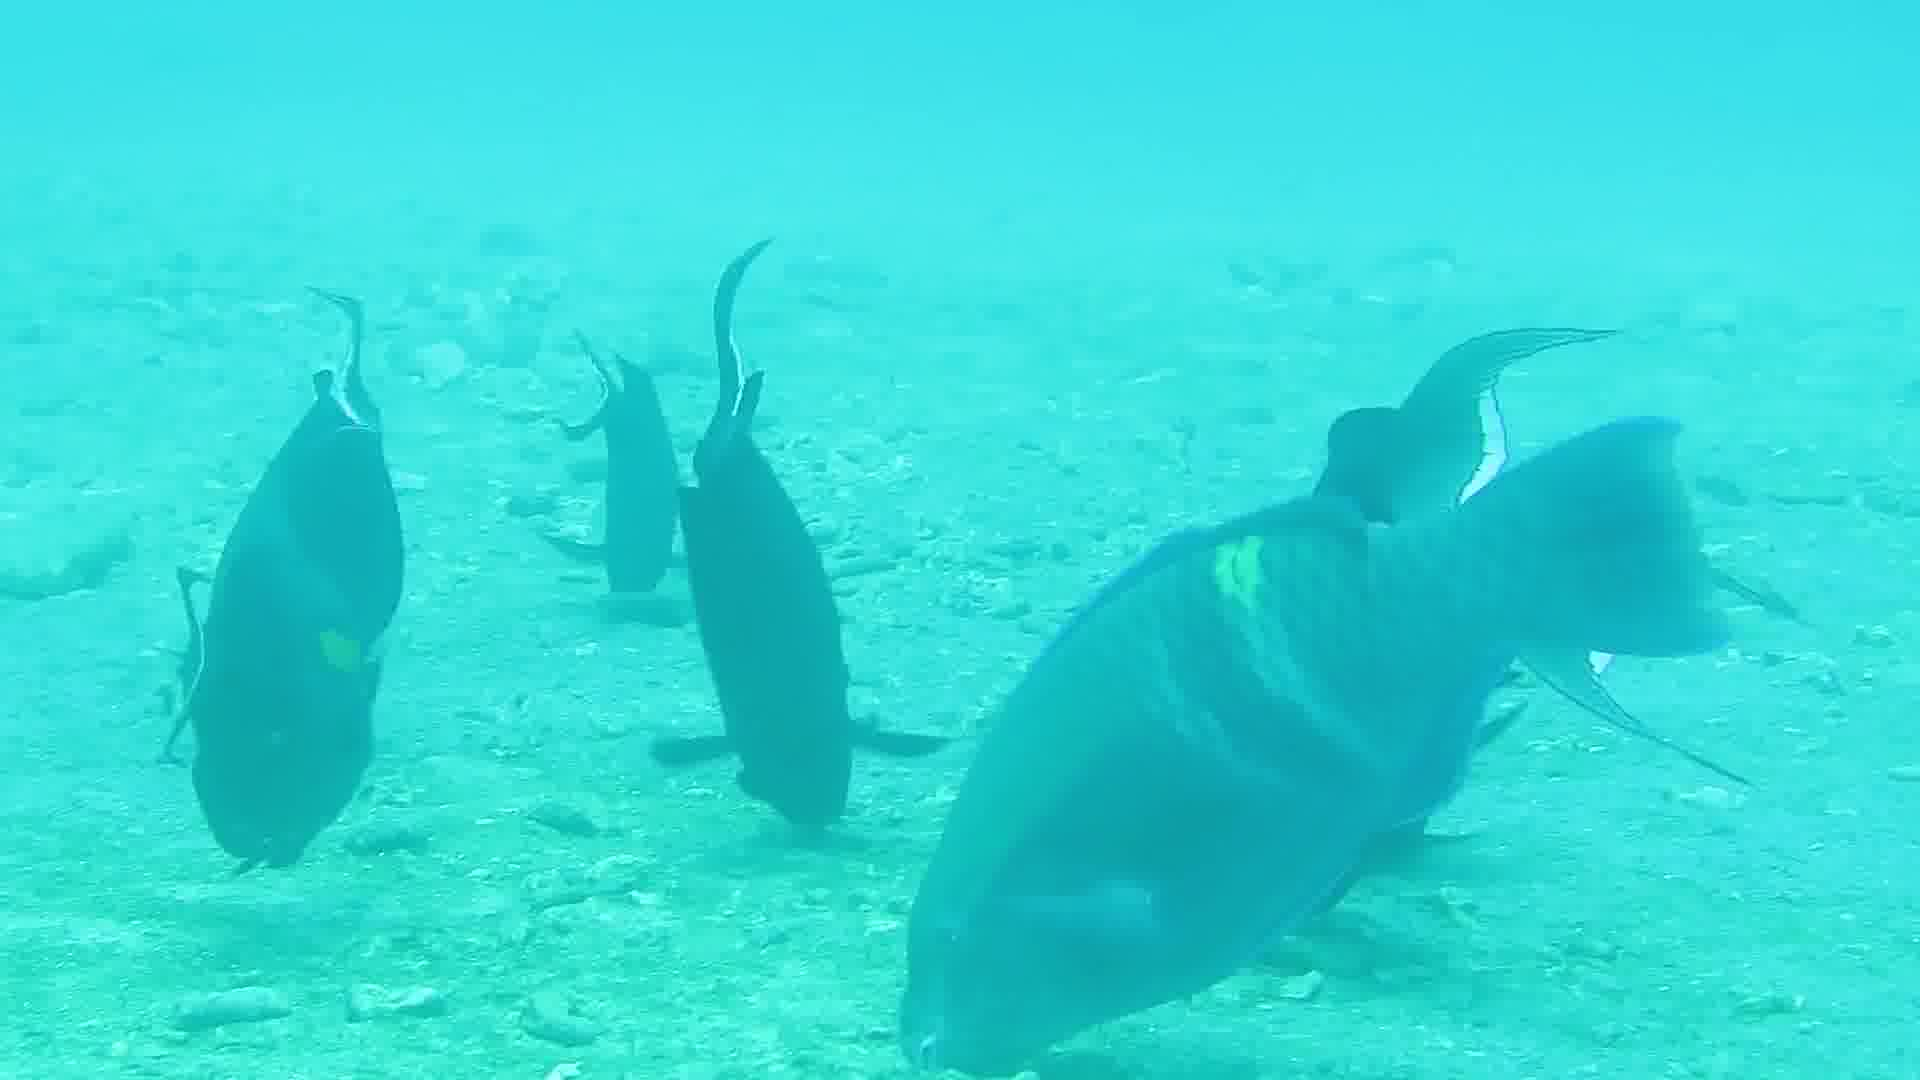Acanthurus olivaceus: (899, 388, 1811, 1065), (673, 207, 982, 891), (142, 228, 433, 902), (560, 264, 692, 624)
